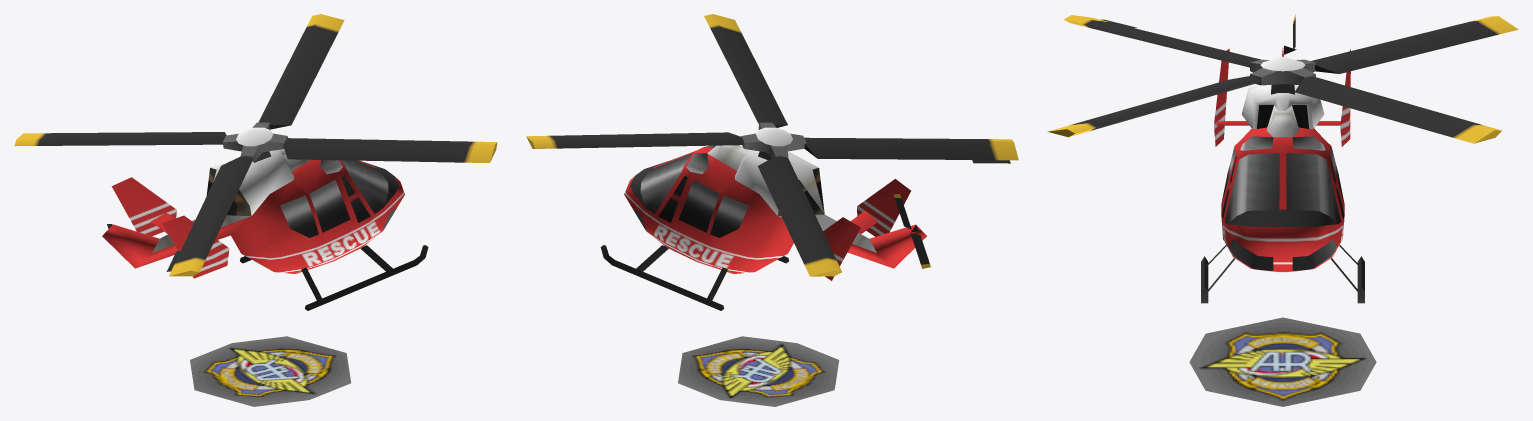
Rendered from icon.ico.obj.
The picture shows the model from 3 angles, left to right: view 1: azimuth 30°, elevation 25°; view 2: azimuth 150°, elevation 25°; view 3: azimuth 270°, elevation 25°; orthographic projection. The views are drawn at different scales.
Size of the model in its own units: 4.6 by 3.42 by 4.67.
Materials: 1 (1 with a texture image).
